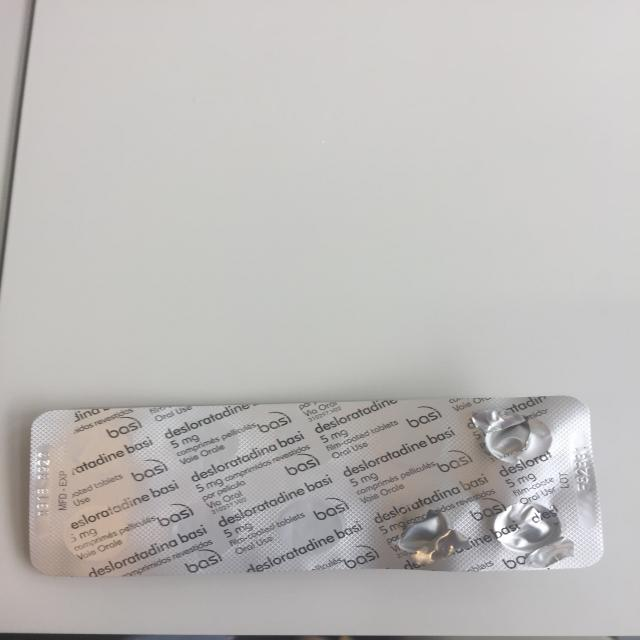Empty: (472, 408, 557, 465), (485, 502, 573, 556), (387, 510, 460, 563)
Pill: (60, 420, 148, 478), (51, 508, 145, 562), (163, 416, 244, 472), (271, 499, 349, 557), (269, 412, 345, 470), (376, 416, 454, 470), (171, 503, 250, 555)
